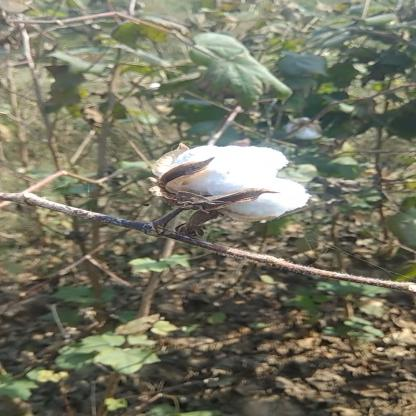cotton_ready: (140, 133, 309, 255)
